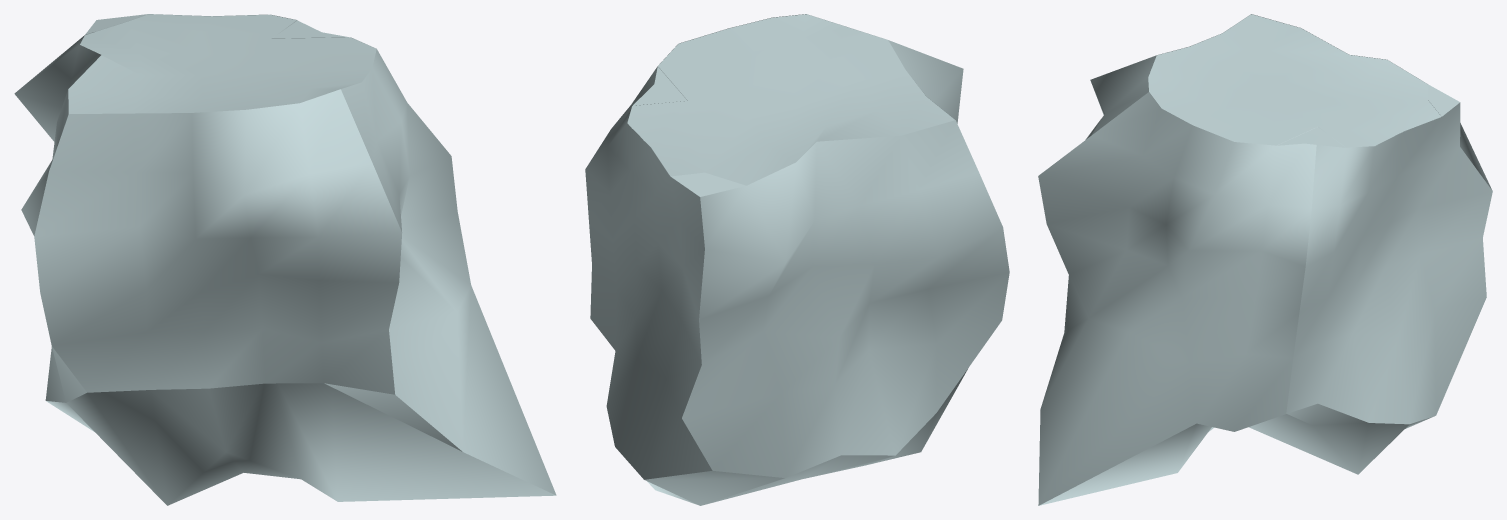
The picture shows the model from 3 angles, left to right: view 1: azimuth 30°, elevation 25°; view 2: azimuth 150°, elevation 25°; view 3: azimuth 270°, elevation 25°; orthographic projection. The views are drawn at different scales.
Visible parts, largest first — view 1: polySurface2, polySurface3; view 2: polySurface2, polySurface3; view 3: polySurface2, polySurface3.
Boxes of the visible parts, x1=… form: polySurface2: x1=14, y1=14, x2=556, y2=505; polySurface3: x1=68, y1=14, x2=376, y2=114; polySurface2: x1=585, y1=14, x2=1009, y2=505; polySurface3: x1=627, y1=14, x2=954, y2=185; polySurface2: x1=1038, y1=14, x2=1492, y2=505; polySurface3: x1=1148, y1=14, x2=1441, y2=147.
Bounding box in the file's own units: 166 × 166 × 183.
